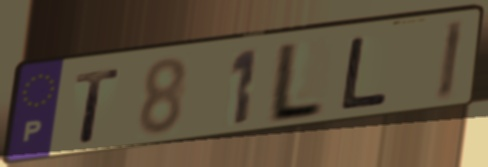1: (228, 46, 259, 126)
8: (135, 55, 191, 141)
I: (433, 17, 467, 105)
L: (262, 38, 329, 127), (336, 34, 391, 113)
T: (72, 65, 122, 145)
